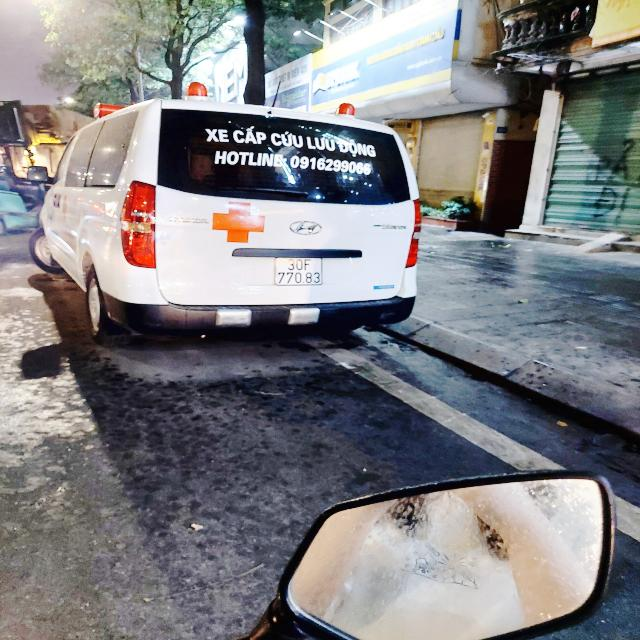license_plate: (273, 254, 327, 288)
